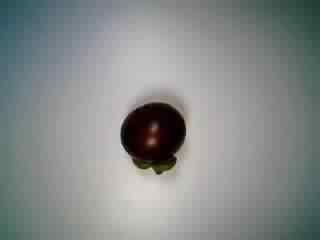mangosteen: (116, 100, 193, 175)
